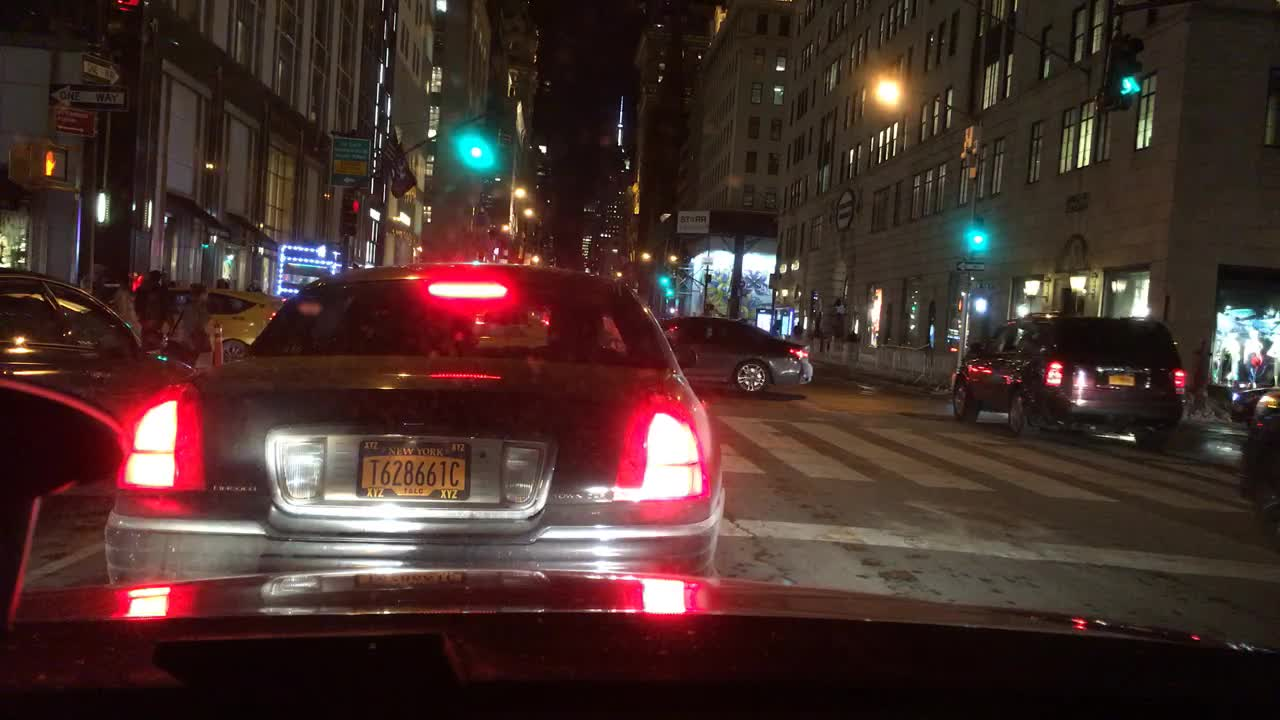car: (105, 258, 726, 592), (0, 266, 213, 524), (946, 312, 1193, 455), (107, 276, 292, 366), (662, 311, 817, 395), (1239, 389, 1278, 554), (1229, 381, 1277, 429)
person: (167, 280, 215, 366), (134, 270, 167, 351), (245, 276, 266, 292), (216, 278, 232, 288)
traffic light: (7, 136, 77, 195), (1109, 32, 1143, 110), (105, 1, 139, 39), (466, 122, 485, 164), (340, 198, 357, 233), (970, 219, 987, 249), (129, 275, 145, 296), (657, 275, 672, 290)
traffic sign: (333, 135, 370, 189), (52, 83, 130, 107), (50, 104, 98, 135), (79, 52, 124, 82), (675, 208, 709, 233), (956, 261, 985, 274)
